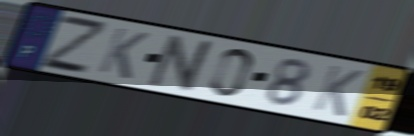0: (210, 47, 254, 98)
8: (265, 56, 313, 109)
K: (309, 63, 367, 120), (95, 25, 152, 82)
N: (144, 33, 220, 95)
Z: (38, 12, 108, 77)
